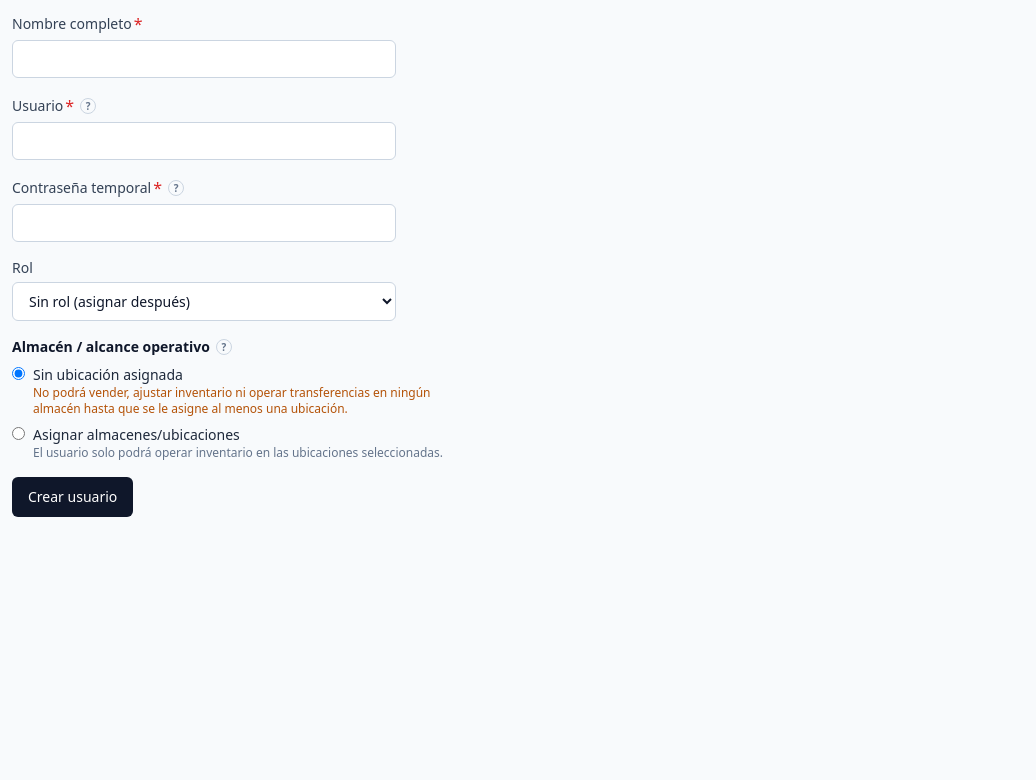
CreateUserForm — location assignment (single flow, reuses PUT /users/:id/locations) › when the user is created but the location PUT fails, still navigates to the new user (never loses the created user) and explains the failure
In the field labelled "Nombre completo": (204, 59) [12,40,396,78], type "Ana Lopez"
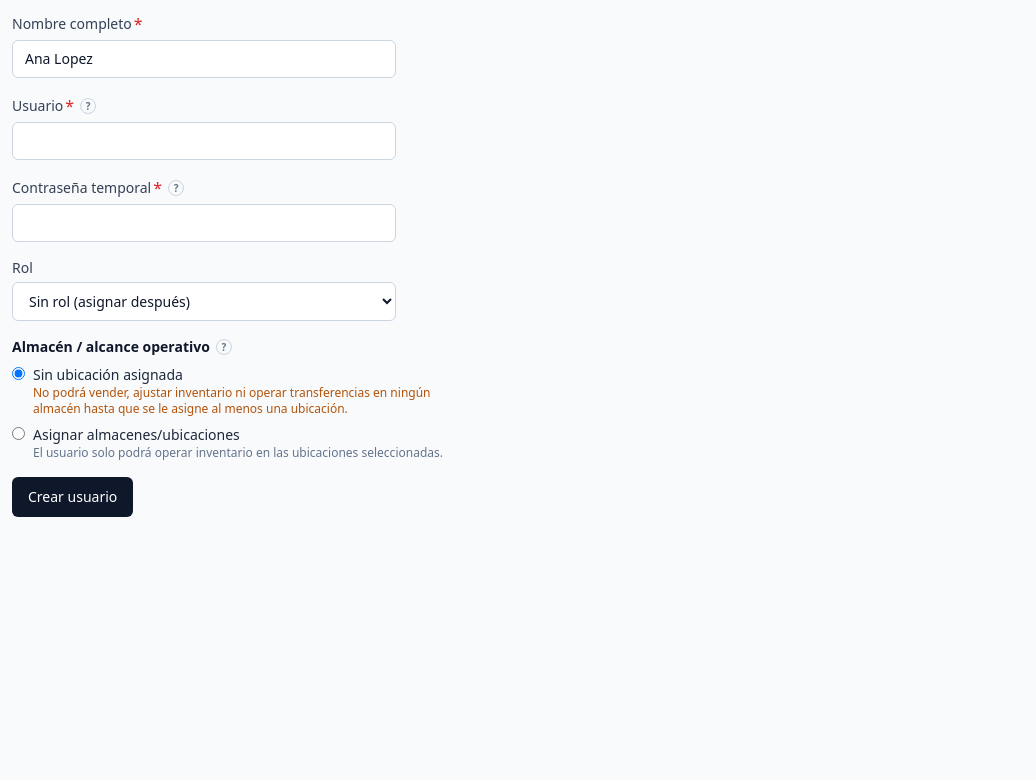
In the field labelled "Usuario": (204, 141) [12,122,396,160], type "ana@example.com"
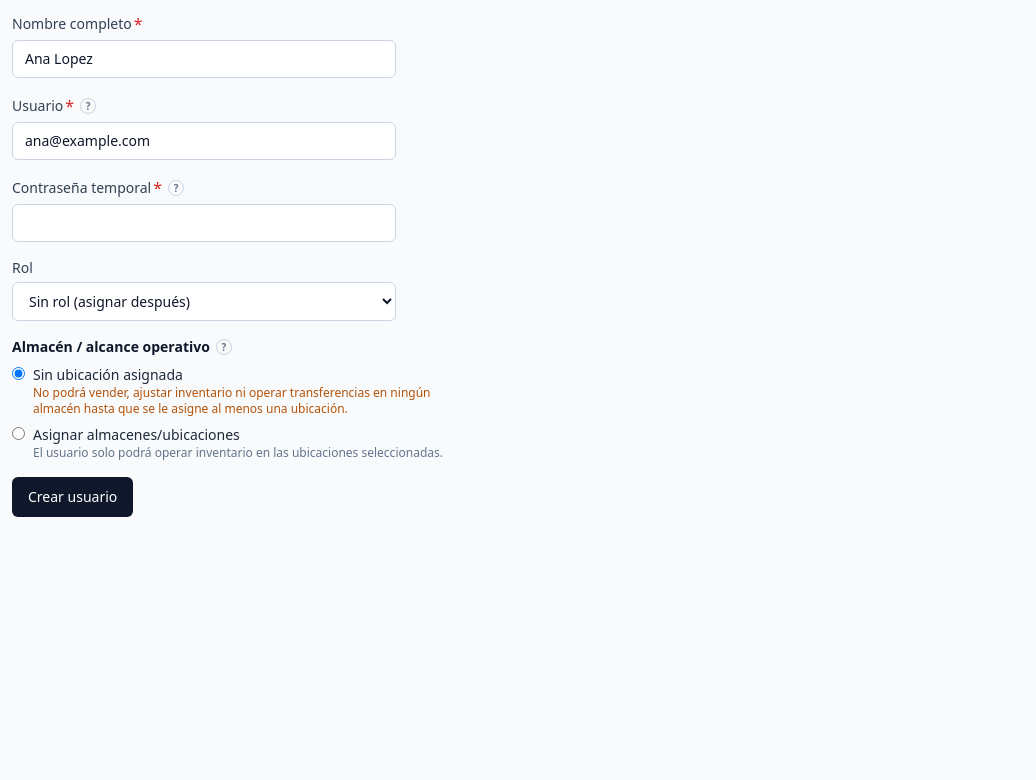
In the password field labelled "Contraseña temporal": (204, 223) [12,204,396,242], type "a-very-long-password"
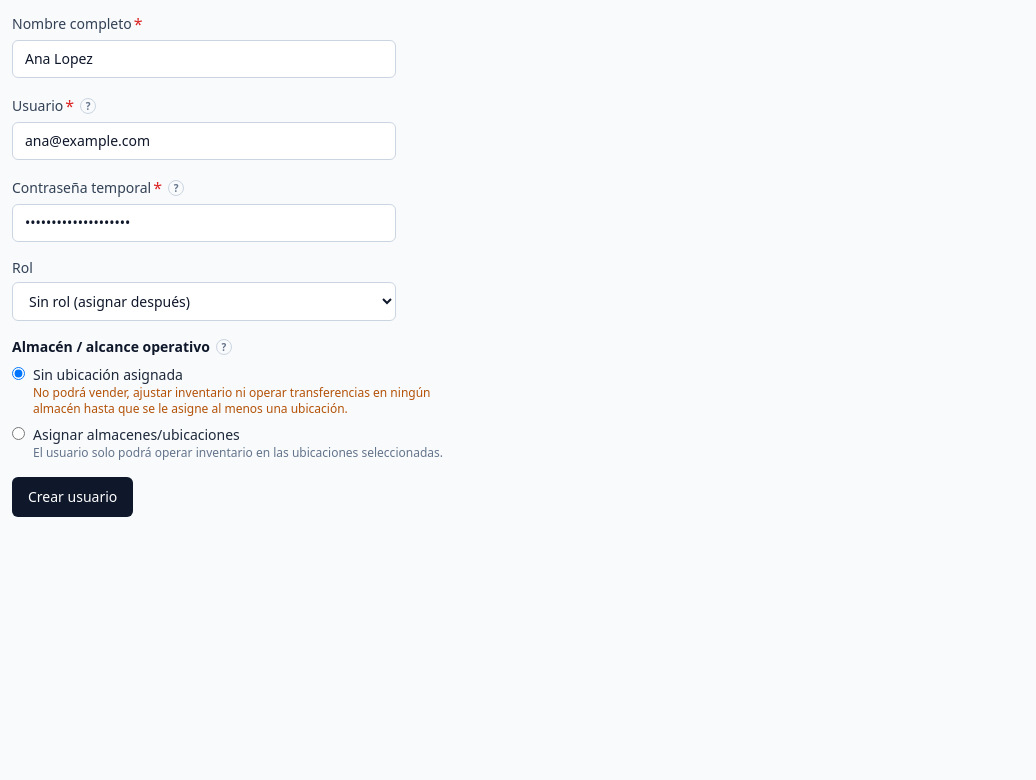
Click the radio button labelled "Asignar almacenes/ubicaciones": (18, 434) [12,427,25,440]
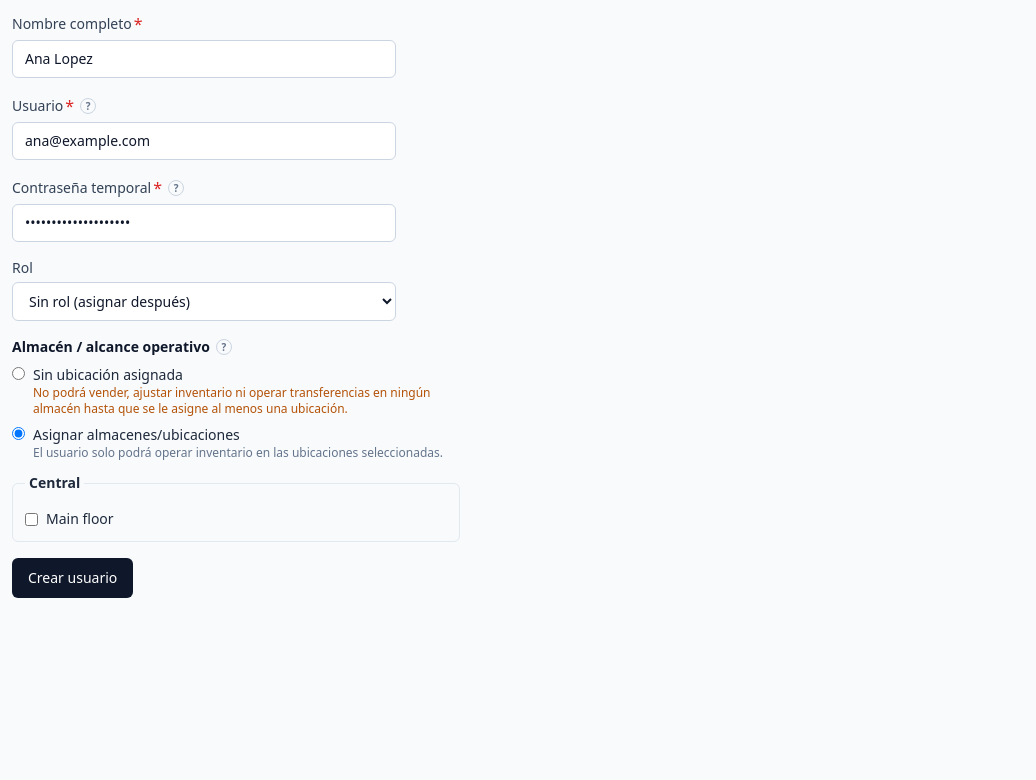
Click the checkbox labelled "Main floor": (32, 519) [25,512,38,526]
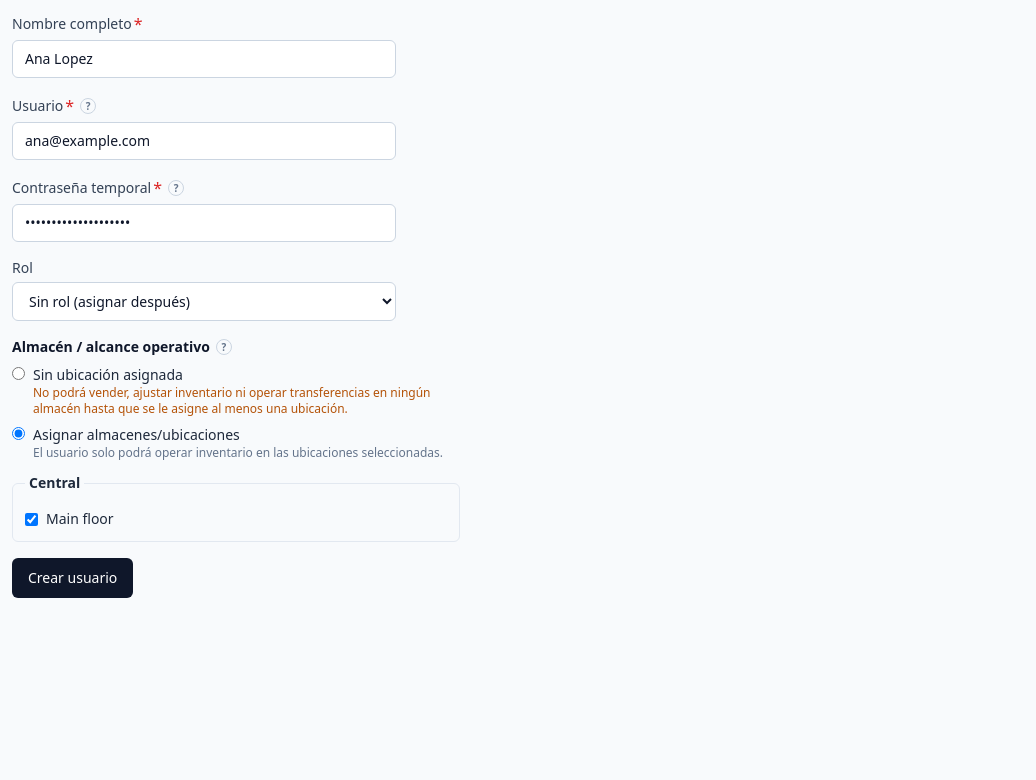
Click the button "Crear usuario": (73, 578) [12,558,133,598]
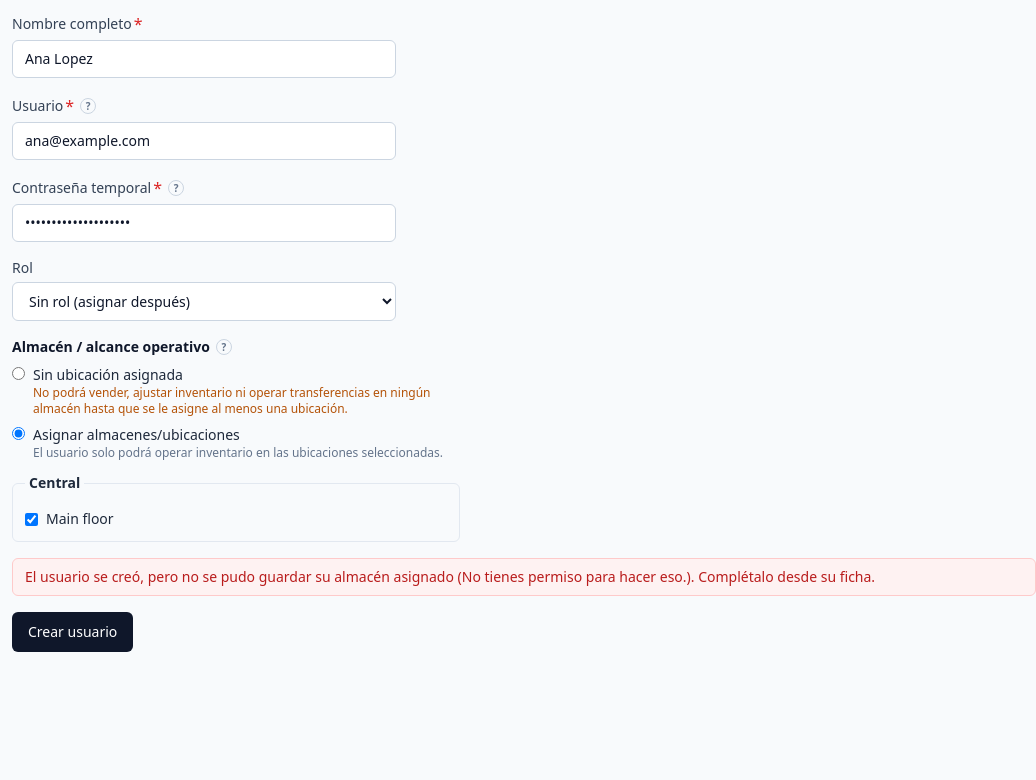
Now the text "El usuario se creó, pero no se pudo guardar su almacén asignado" is shown, box [25,567,875,586]
